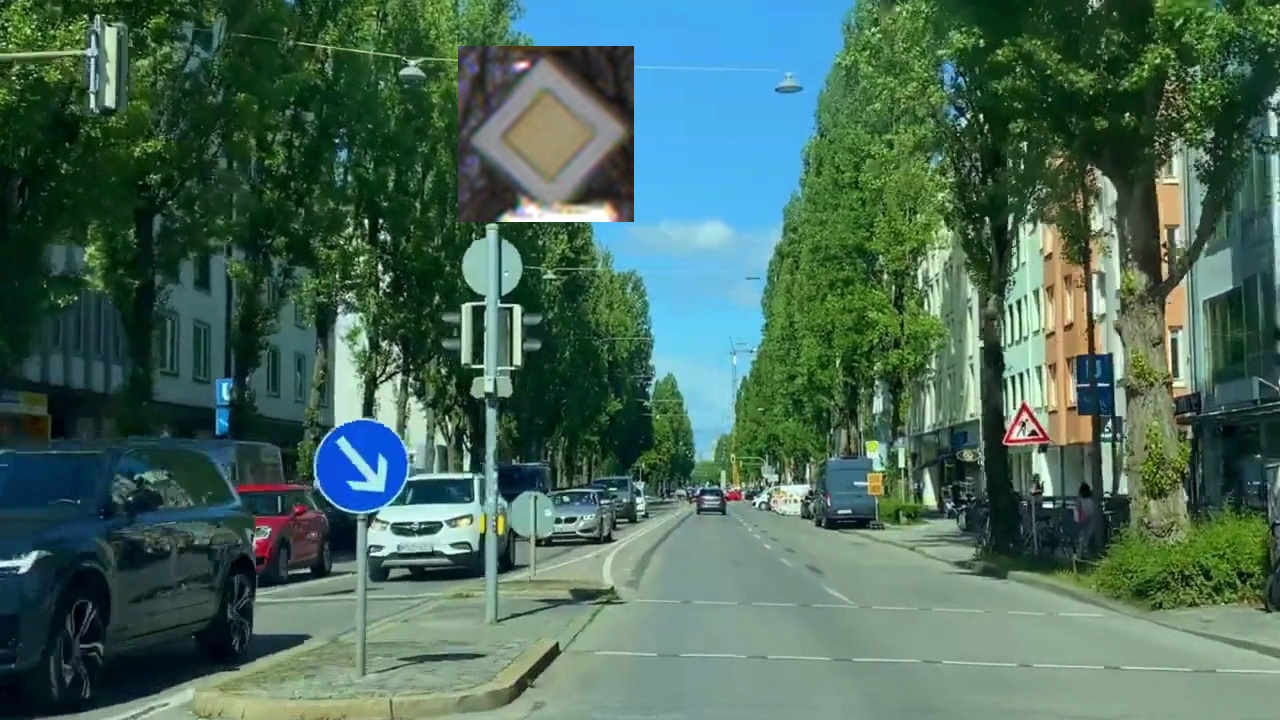Priority road: (458, 46, 634, 222)
